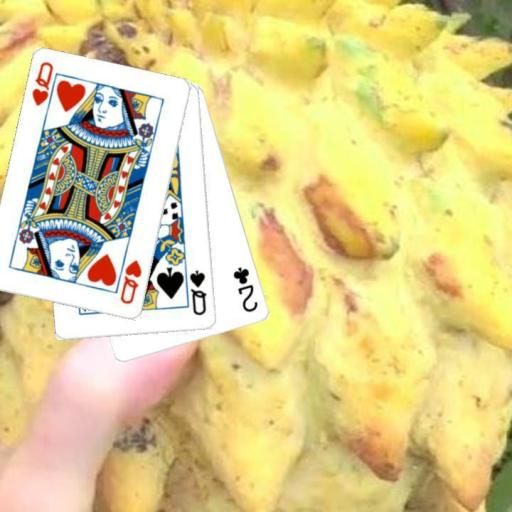card-corner: (29, 59, 61, 117), (230, 264, 260, 314), (117, 258, 144, 306), (187, 268, 208, 318)
